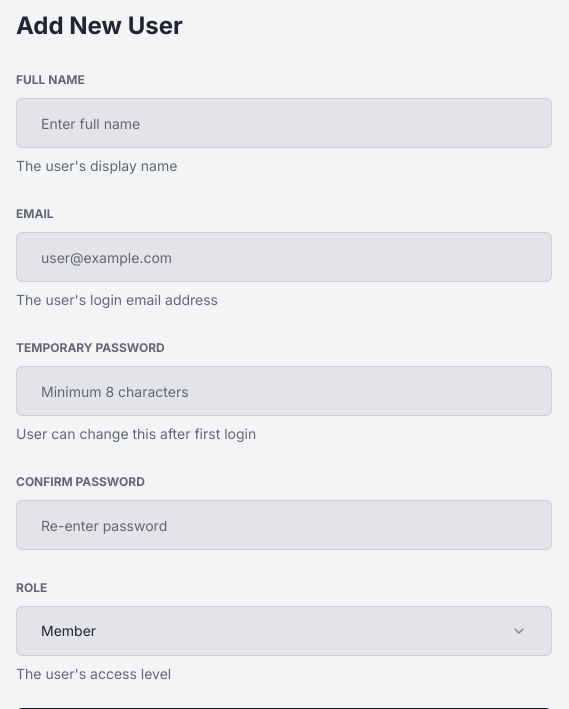
AddUserForm › displays loading state (spinner) when form is submitted
Step 1. Type "Test User" into the field labelled "Full Name" → (284, 123), box 16,98 -> 552,148
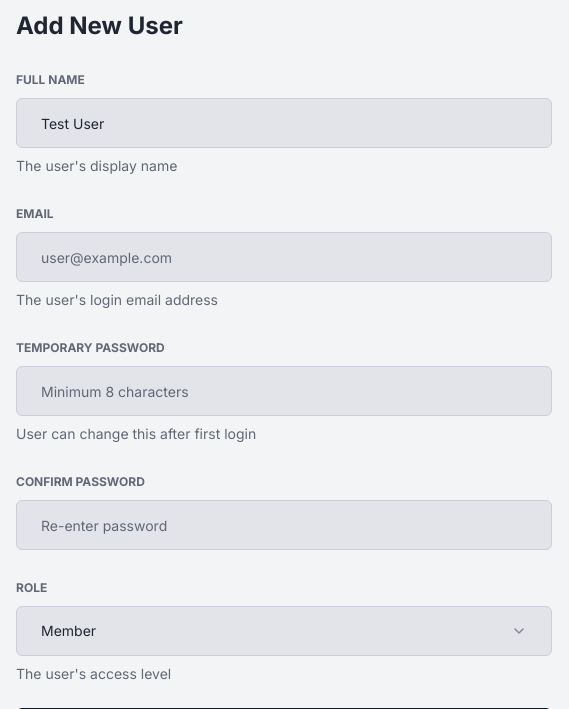
Step 2. Type "test@example.com" into the field labelled "Email" → (284, 257), box 16,232 -> 552,282
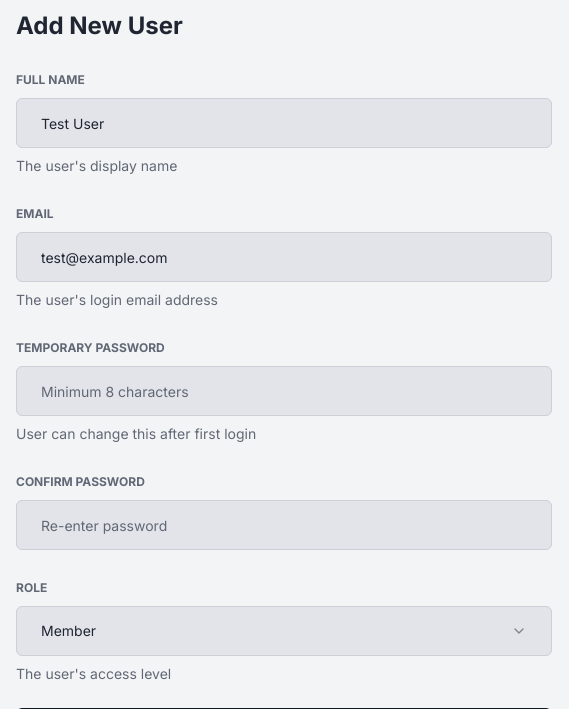
Step 3. Type "password123" into the password field labelled "Temporary Password" → (284, 391), box 16,366 -> 552,416
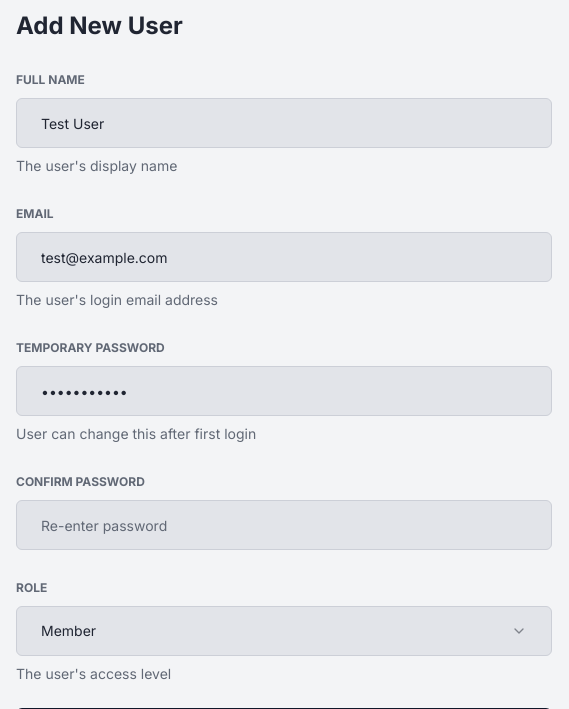
Step 4. Type "password123" into the password field labelled "Confirm Password" → (284, 525), box 16,500 -> 552,550
(page scrolled)
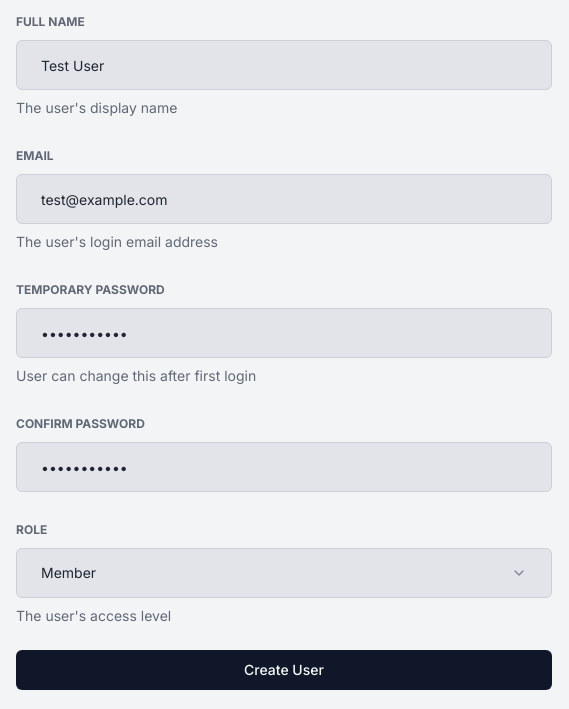
Step 5. Click the button "Create User" → (284, 670), box 16,650 -> 552,690
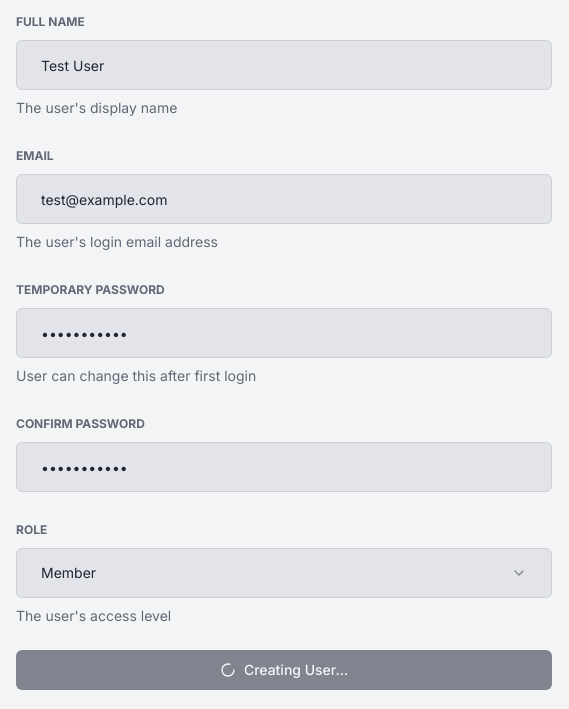
expect the button named "create user" is disabled: met, box 16,650 -> 552,690
